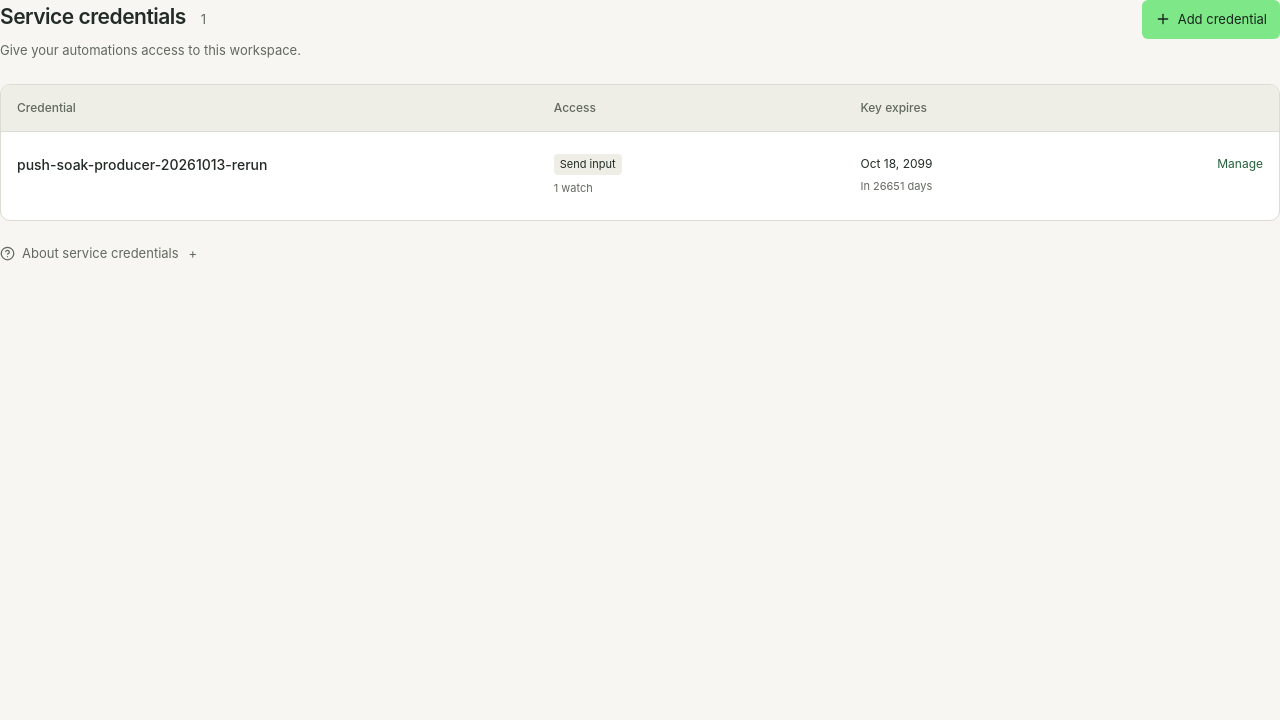
a lost issuance response keeps the form and explains how to recover
This screenshot has width=1280, height=720.
Click the button "Add credential". click: (1211, 19)
box: top-left (1142, 0), bottom-right (1279, 39)
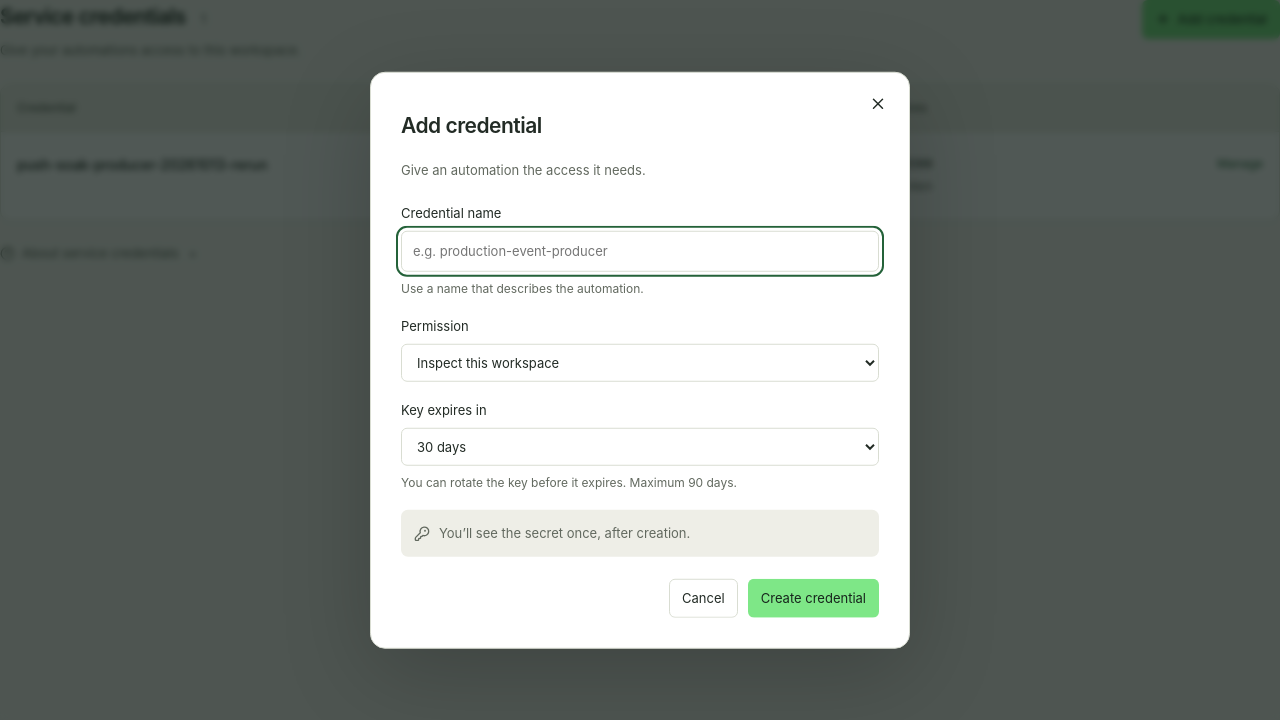
Type "Inspector" into the field labelled "Credential name". click: (640, 251)
box: top-left (401, 231), bottom-right (879, 272)
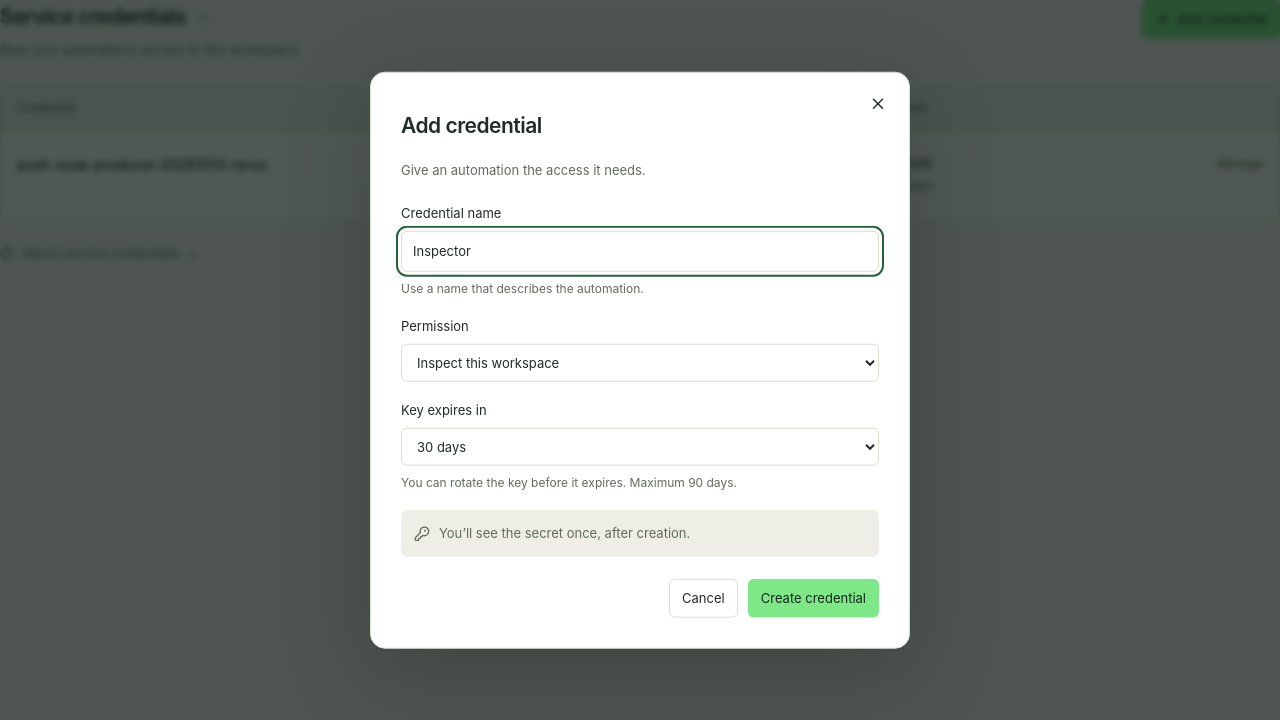
Click the button "Create credential". click: (813, 598)
box: top-left (748, 578), bottom-right (879, 617)
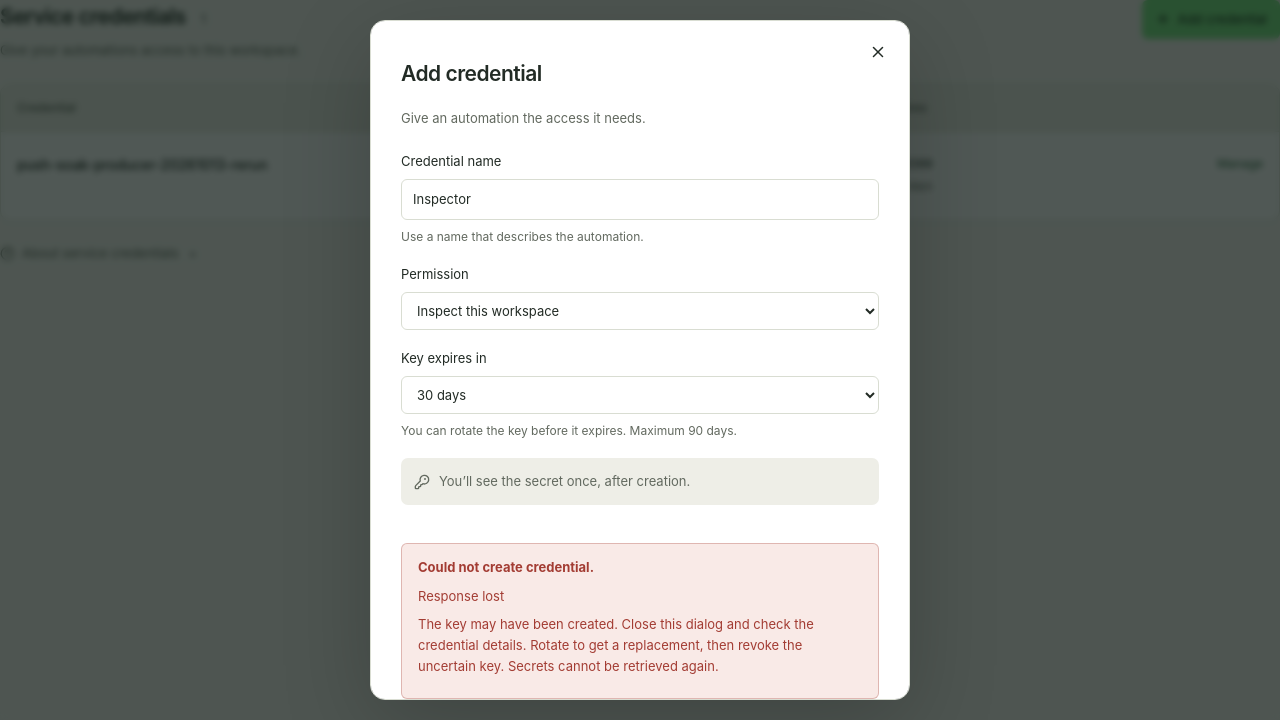
Expected: the message shows "The key may have been created", top-left (418, 616), bottom-right (814, 674)
